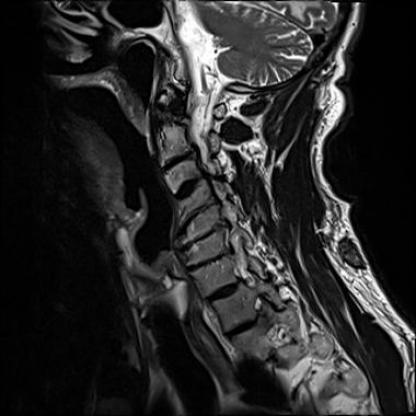Disc Bulgerotation: (180, 230, 227, 246), (186, 253, 232, 269), (157, 152, 200, 169), (172, 180, 209, 198), (168, 209, 224, 220)
Osteophytesrotation: (179, 230, 227, 246), (186, 252, 232, 268), (156, 152, 198, 169), (172, 179, 209, 197), (167, 209, 224, 220)
